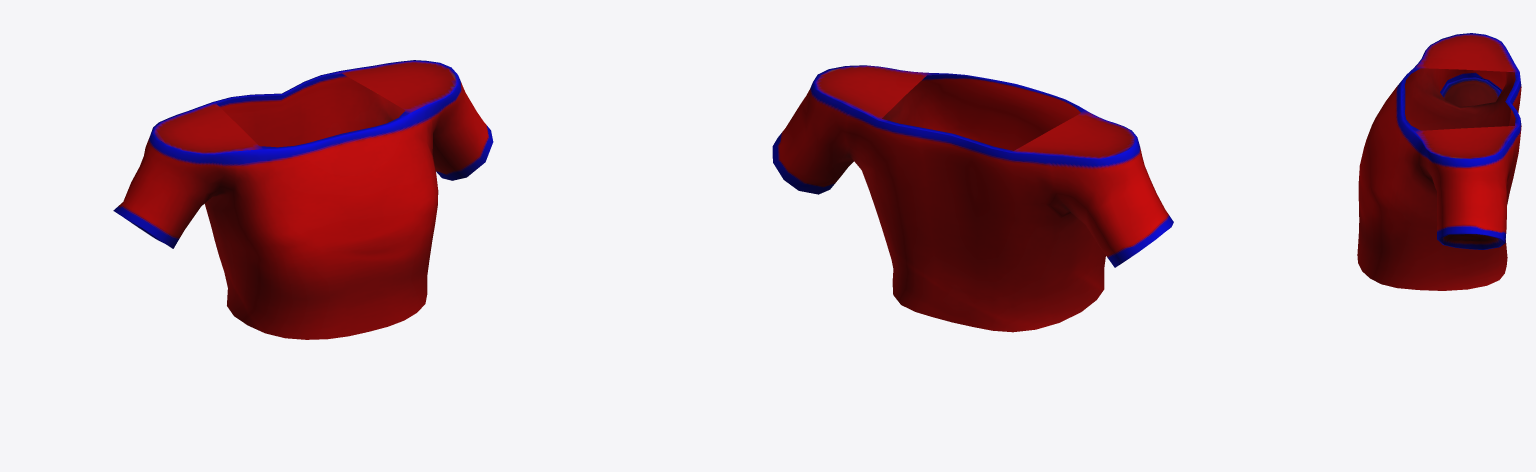
File: Top_OpenShoulderCrop.obj
3 views of the same model, side by side, from view 1: azimuth 30°, elevation 25°; view 2: azimuth 150°, elevation 25°; view 3: azimuth 270°, elevation 25° (orthographic). The views are drawn at different scales.
Parts seen in each view (by area): view 1: Top_OpenShoulderCrop_0; view 2: Top_OpenShoulderCrop_0; view 3: Top_OpenShoulderCrop_0.
Boxes of the visible parts, x1,y1,x2,y2 form: Top_OpenShoulderCrop_0: [113, 60, 493, 339]; Top_OpenShoulderCrop_0: [772, 65, 1173, 332]; Top_OpenShoulderCrop_0: [1357, 33, 1521, 290].
Size of the model in its own units: 0.8632 by 0.4704 by 0.2261.
1 material, 1 textured.
